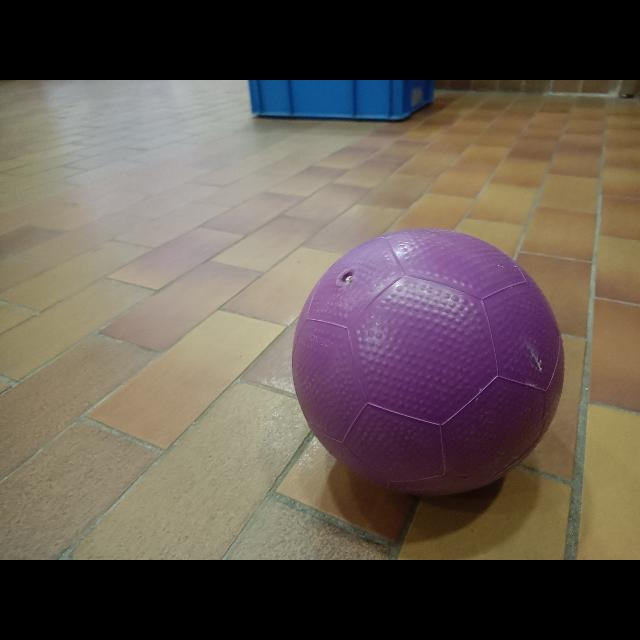P: (290, 227, 566, 496)
